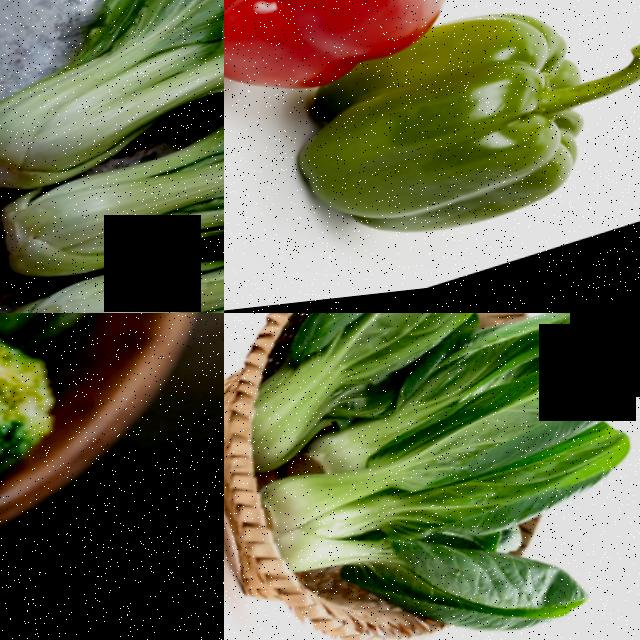bell pepper: (265, 16, 613, 277), (224, 0, 410, 120)
bok choy: (0, 77, 224, 313), (236, 422, 560, 584), (300, 328, 632, 482), (0, 0, 224, 206), (0, 190, 224, 313), (224, 313, 503, 410)
